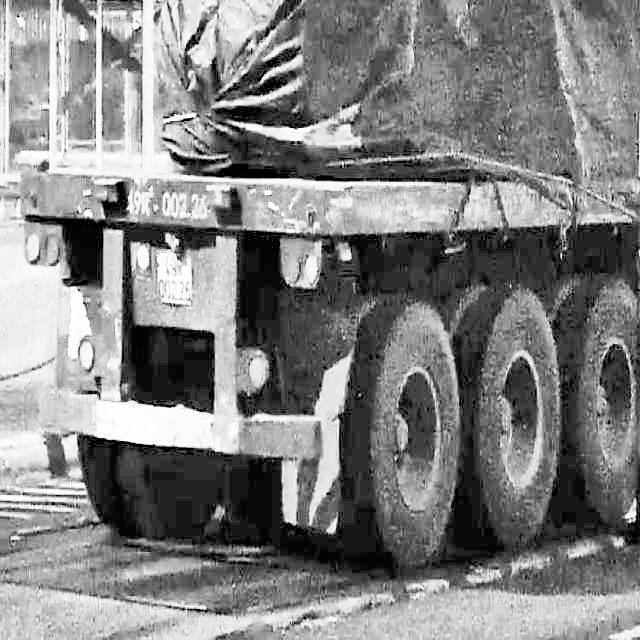Truck: (16, 0, 639, 572)
